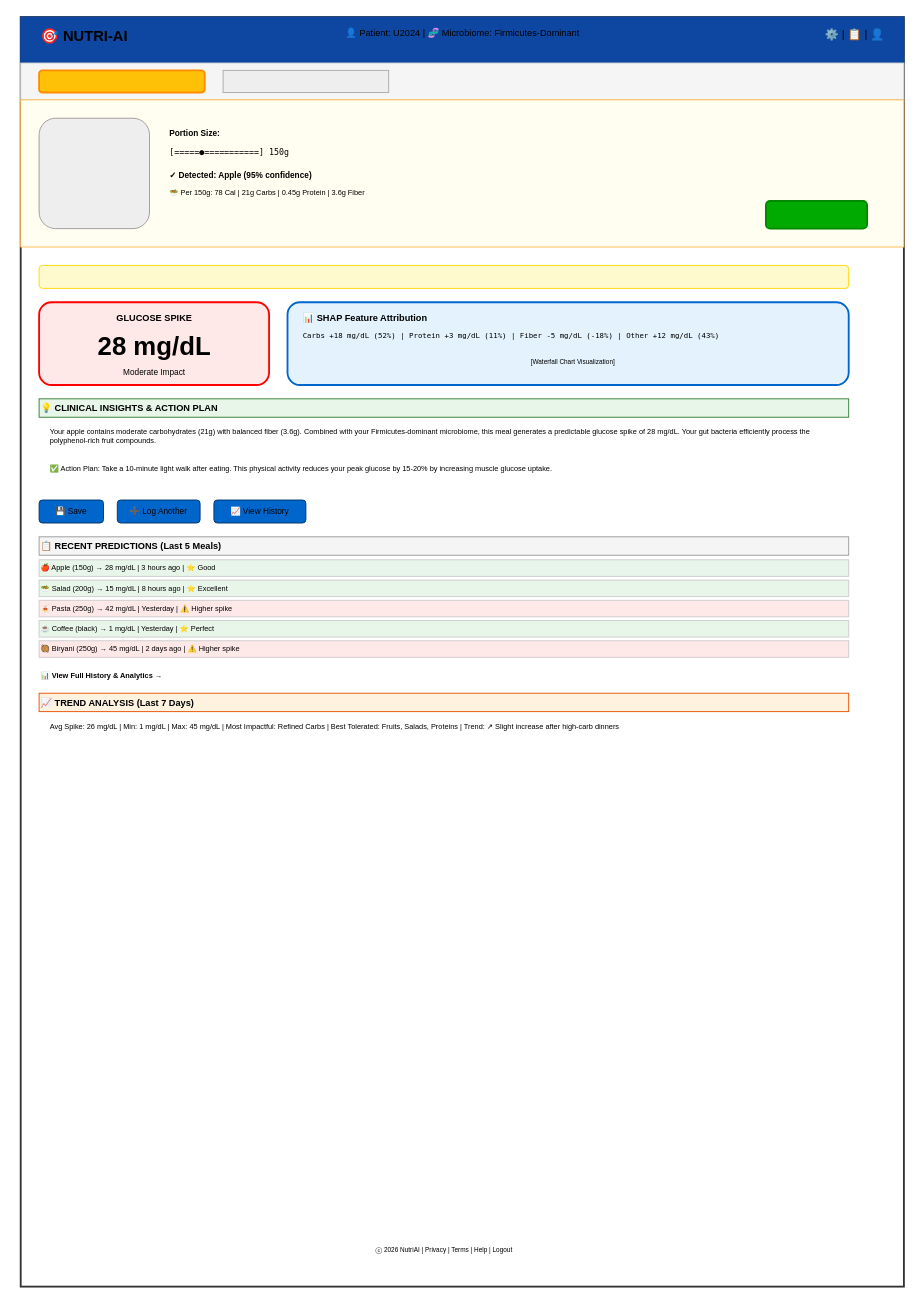
This 921x1303 diagram has some shape labels left out. Here are the shapes that lost their labels. From the top down, the box of each, then its label:
(38, 69, 205, 93): 📷 IMAGE UPLOAD
(222, 69, 389, 92): 📝 MANUAL ENTRY
(38, 117, 150, 229): 📷 Food Image Preview (Drag & Drop)
(765, 200, 868, 229): ➡️ ANALYZE
(38, 264, 849, 288): ⏳ Processing... (Random Forest + SHAP + LLM)
